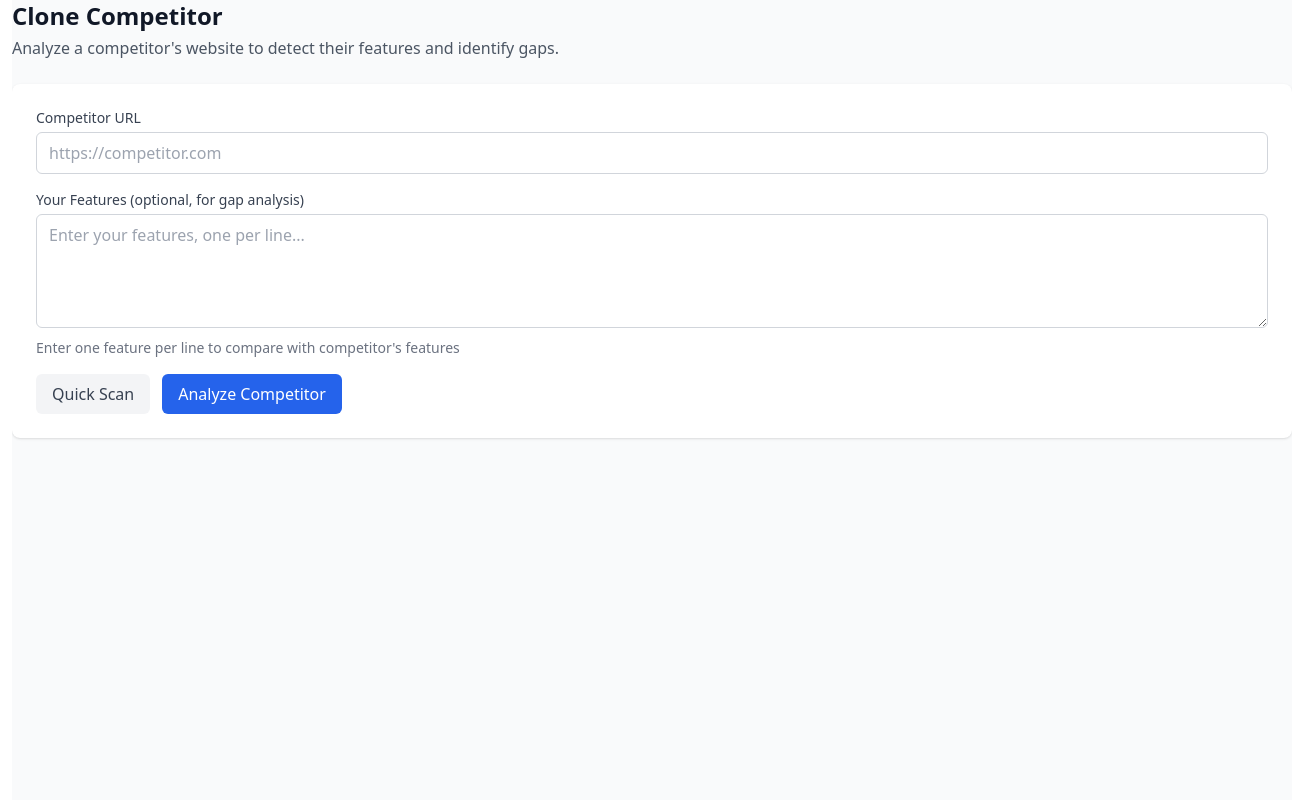
Test: ClonePage › should show add to tracking option after analysis
Type "https://test.com" into the field labelled "Competitor URL" at (652, 153), box [36,132,1268,174]
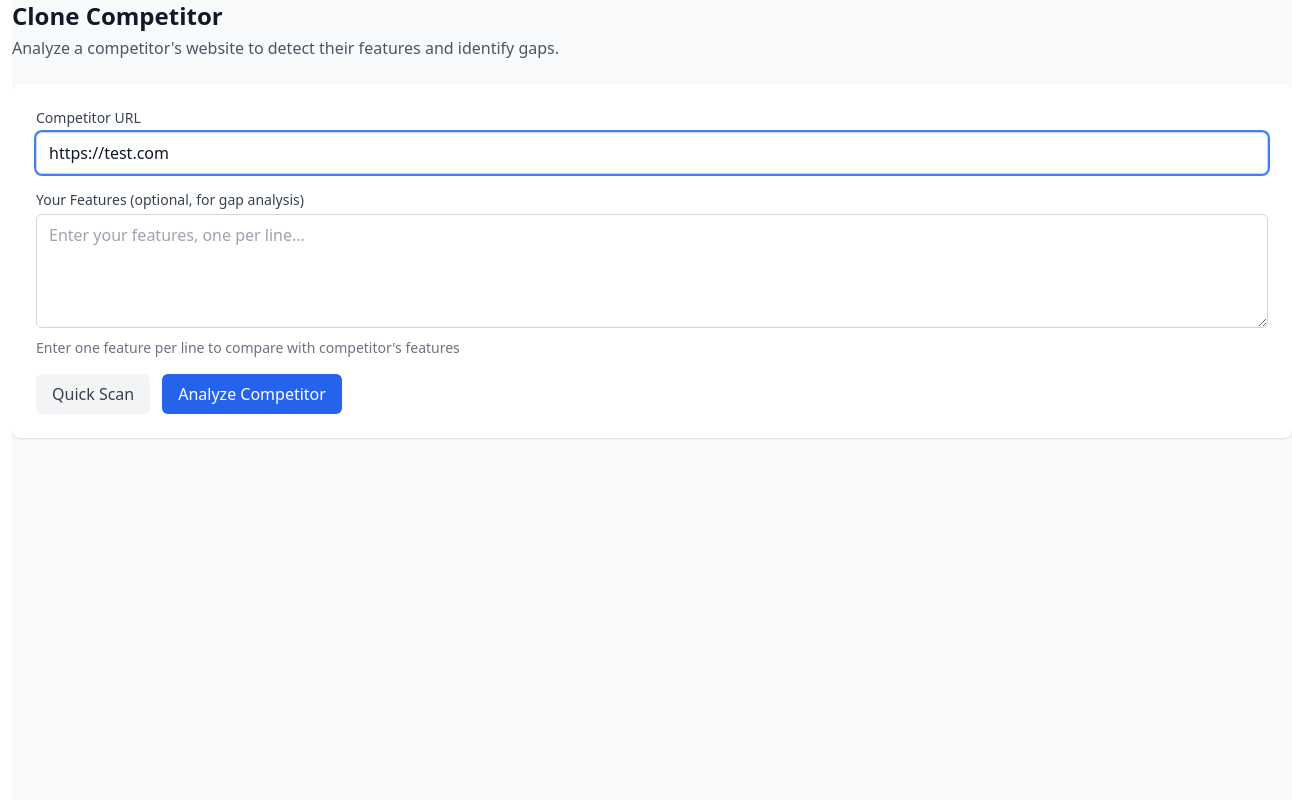
Click the button "Analyze Competitor" at (252, 394), box [162,374,342,414]
(page scrolled)
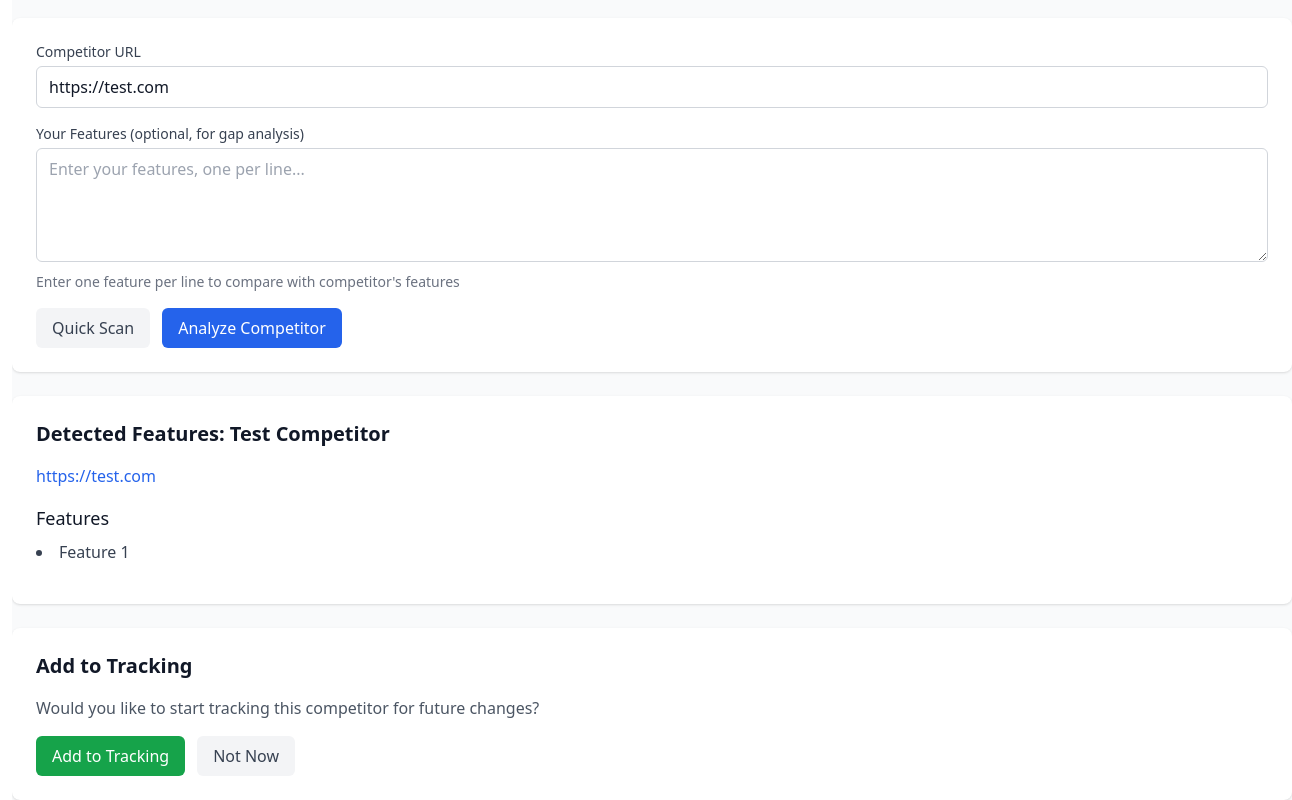
Expected: the heading "Add to Tracking" is shown, [36,652,192,679]
Expected: the button "Not Now" is shown, [197,736,295,776]
